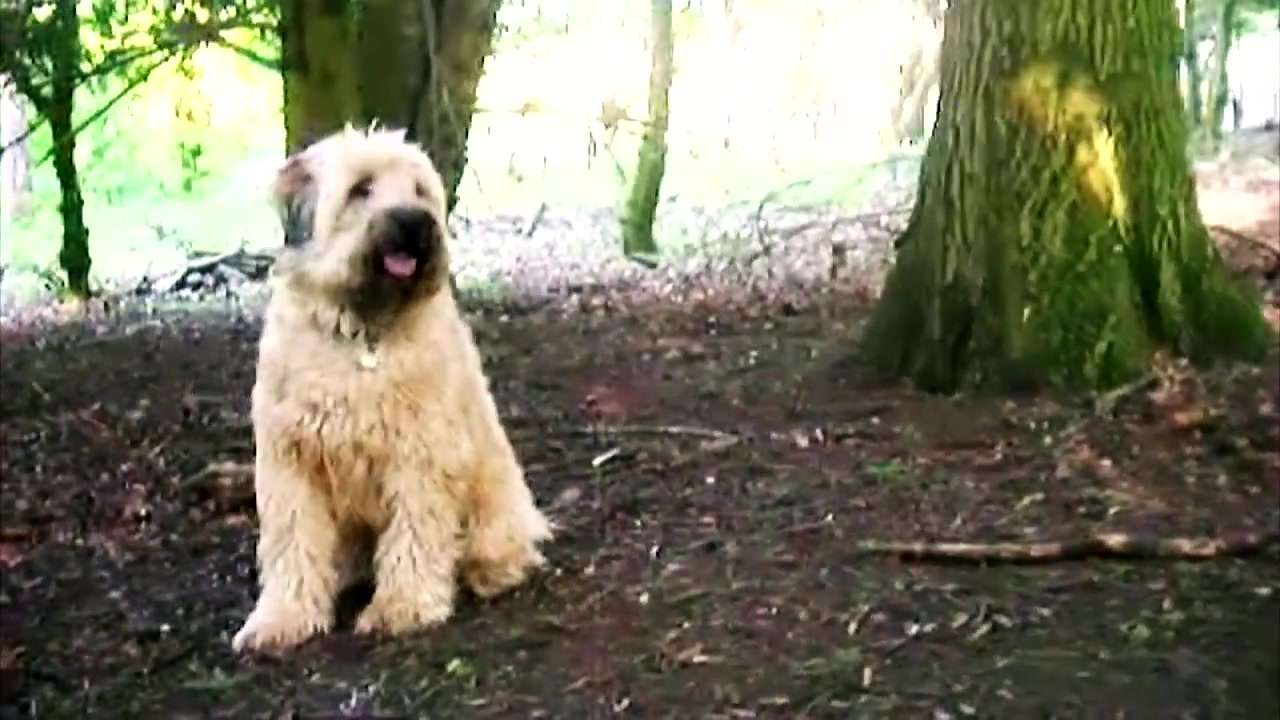dog: (223, 122, 553, 659)
